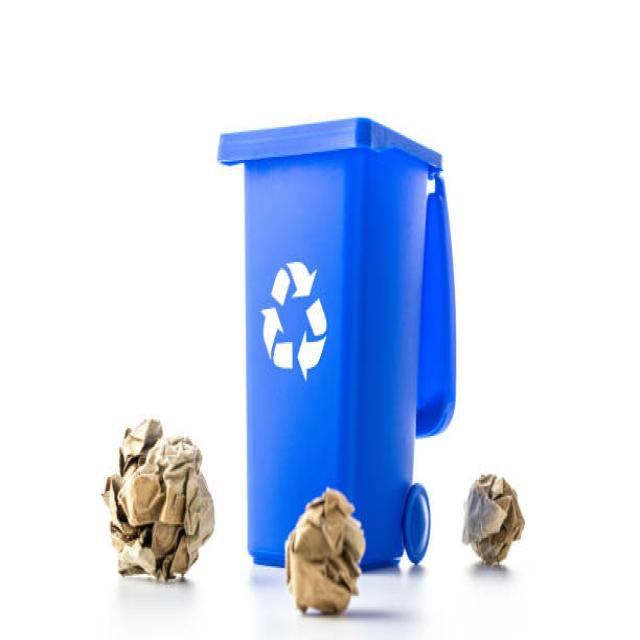paper: (90, 420, 227, 578), (271, 488, 389, 615)
